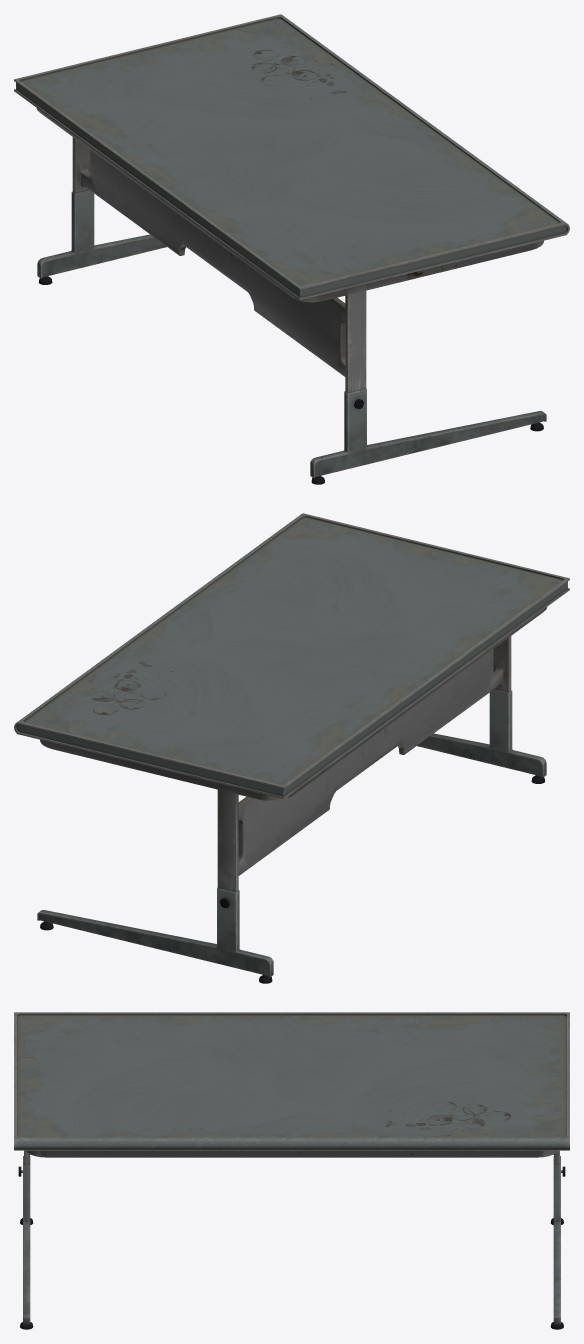
Rendered from Furniture_Desk_B_A1.obj.
3 renders of one model, top to bottom at view 1: azimuth 30°, elevation 25°; view 2: azimuth 150°, elevation 25°; view 3: azimuth 270°, elevation 25°, orthographic. The views are drawn at different scales.
Parts seen in each view (by area): view 1: SM_Furniture_Desk_B_A1_01; view 2: SM_Furniture_Desk_B_A1_01; view 3: SM_Furniture_Desk_B_A1_01.
Boxes of the visible parts, x1,y1,x2,y2 form: SM_Furniture_Desk_B_A1_01: (14,14,569,484); SM_Furniture_Desk_B_A1_01: (14,513,569,983); SM_Furniture_Desk_B_A1_01: (14,1012,569,1329).
Bounding box in the file's own units: 5210 × 3762 × 9539.
1 material, 1 textured.
